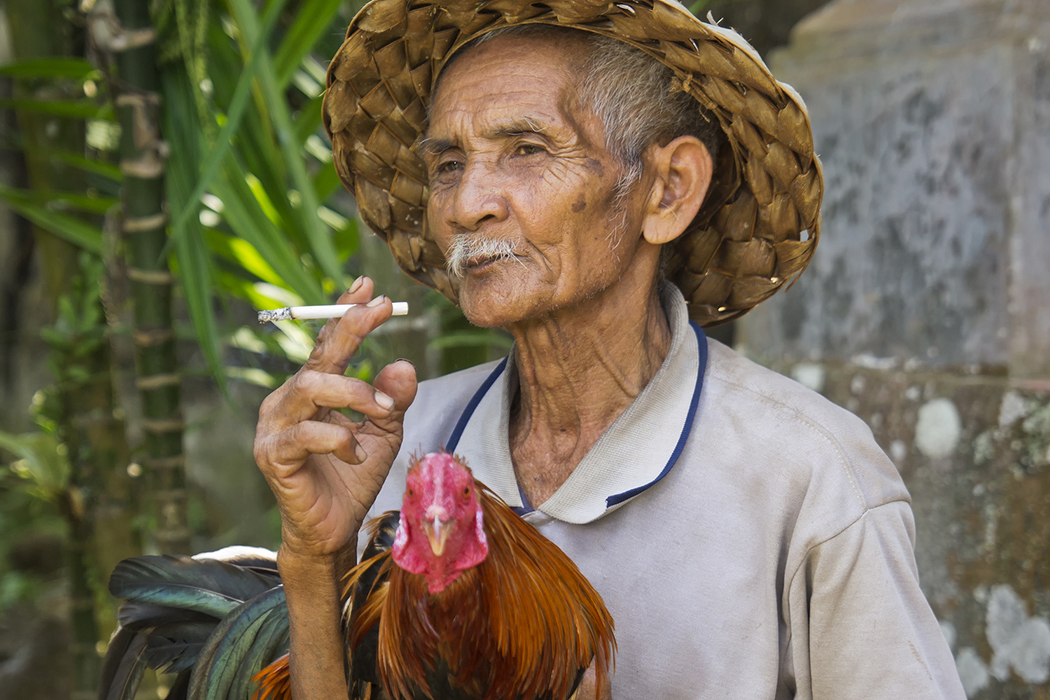cigarette: (250, 299, 430, 320)
